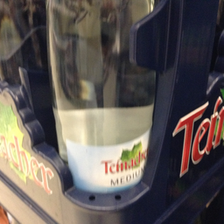water: (45, 1, 157, 195)
